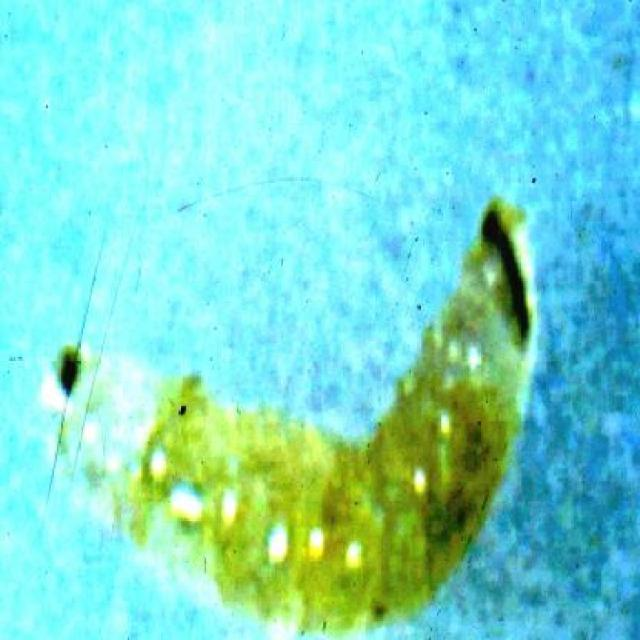whorl-maggot: (46, 195, 543, 629)
